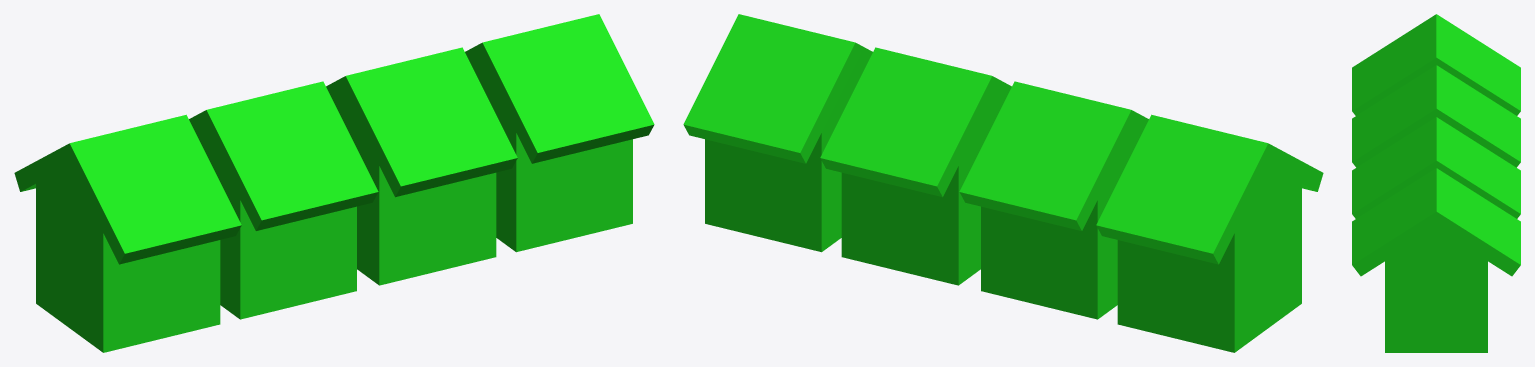
The model's file is maison4.glb.
3 views of the same model, side by side, from view 1: azimuth 30°, elevation 25°; view 2: azimuth 150°, elevation 25°; view 3: azimuth 270°, elevation 25° (orthographic). The views are drawn at different scales.
Visible parts, largest first — view 1: Cube.003; view 2: Cube.003; view 3: Cube.003.
Part boxes in pixels (x1=…): Cube.003: x1=14, y1=14, x2=654, y2=352; Cube.003: x1=683, y1=14, x2=1323, y2=352; Cube.003: x1=1352, y1=14, x2=1520, y2=352.
Size of the model in its own units: 1.14 by 0.3821 by 0.4136.
